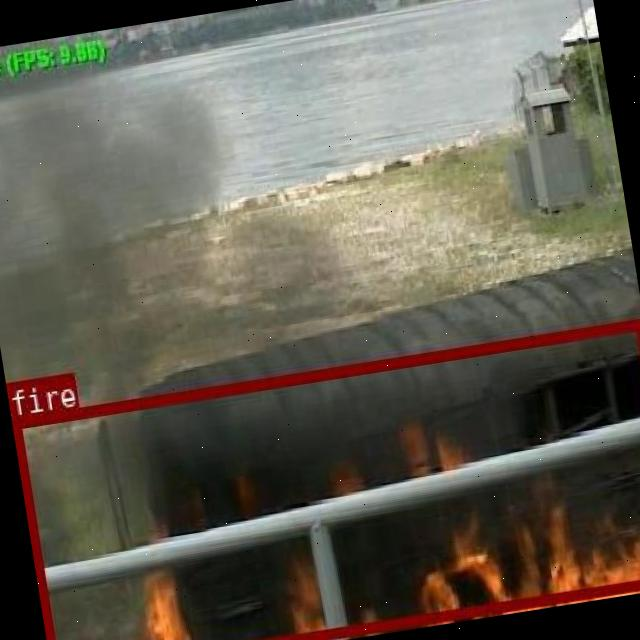fire: (11, 316, 640, 640)
